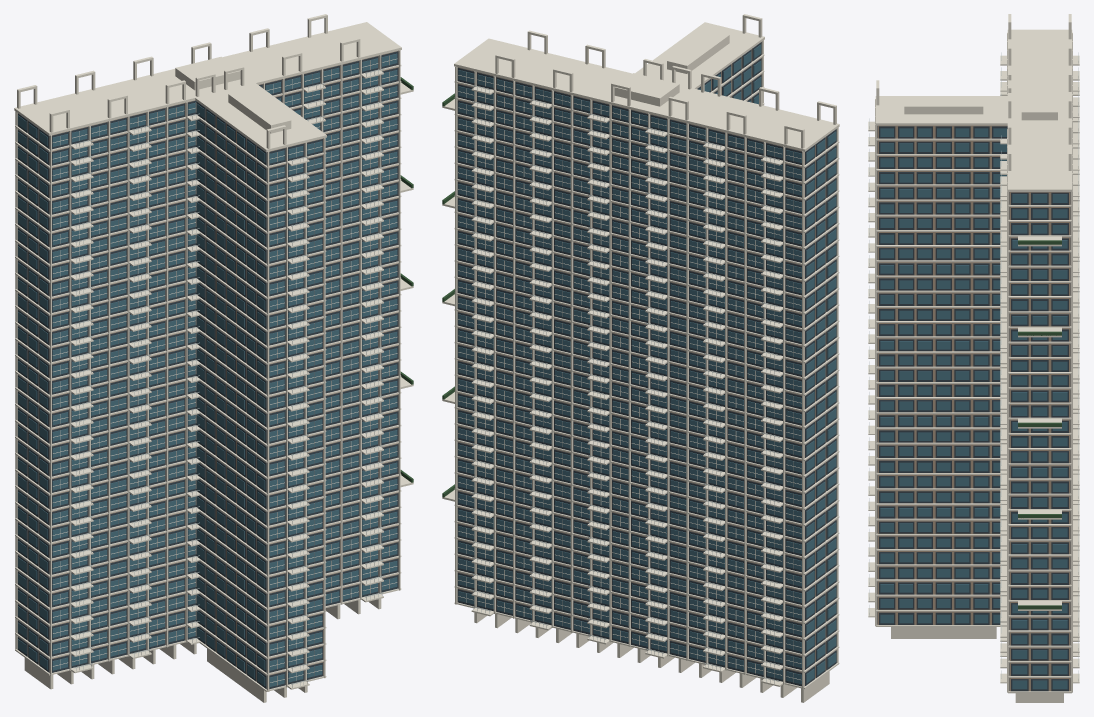
Rendered from tower-b.glb.
3 renders of one model, left to right at view 1: azimuth 30°, elevation 25°; view 2: azimuth 150°, elevation 25°; view 3: azimuth 270°, elevation 25°, orthographic. The views are drawn at different scales.
Parts seen in each view (by area): view 1: glass, ivory, dark, sand, rail; view 2: ivory, glass, dark, sand, rail; view 3: ivory, glass, dark, sand, rail, leaf.
Part boxes in pixels (x1=…): glass: x1=18, y1=53, x2=397, y2=686; ivory: x1=14, y1=14, x2=413, y2=702; dark: x1=17, y1=51, x2=398, y2=689; sand: x1=17, y1=51, x2=398, y2=681; rail: x1=74, y1=69, x2=383, y2=687; ivory: x1=442, y1=14, x2=839, y2=702; glass: x1=458, y1=44, x2=836, y2=684; dark: x1=457, y1=42, x2=836, y2=686; sand: x1=457, y1=42, x2=836, y2=685; rail: x1=472, y1=85, x2=779, y2=683; ivory: x1=868, y1=14, x2=1079, y2=702; glass: x1=880, y1=128, x2=1067, y2=689; dark: x1=877, y1=126, x2=1070, y2=691; sand: x1=877, y1=125, x2=1070, y2=691; rail: x1=869, y1=52, x2=1078, y2=681; leaf: x1=1018, y1=240, x2=1061, y2=609.
Size of the model in its own units: 72.2 by 108 by 38.41.
